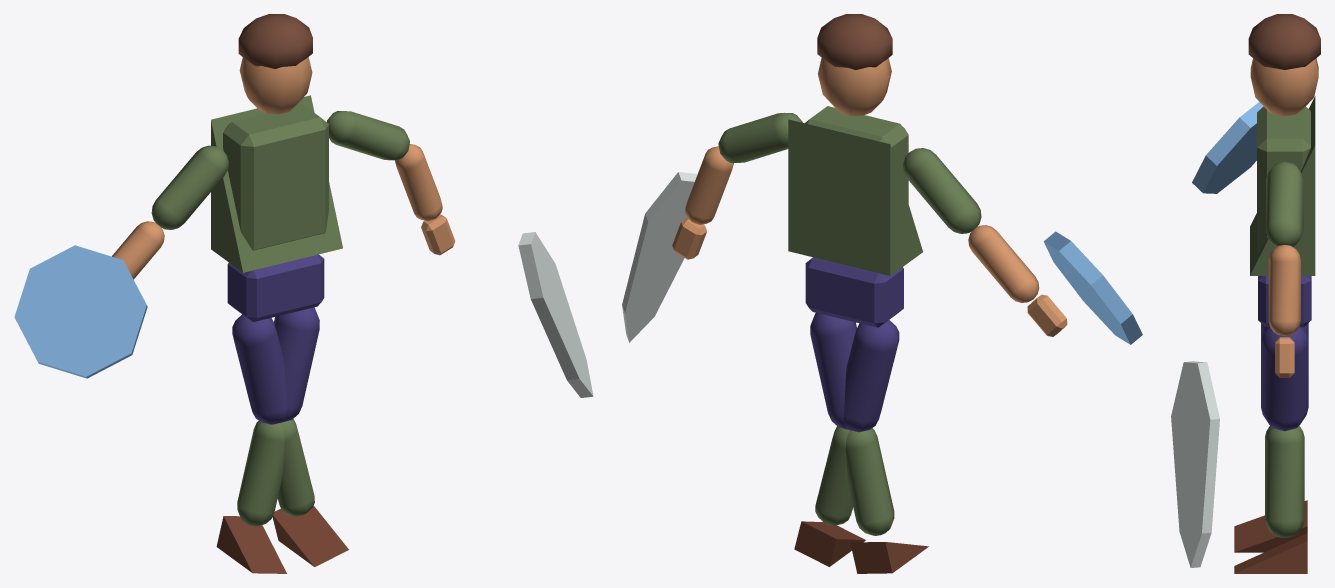
Rendered from adventurer.rustic.glb.
3 renders of one model, left to right at view 1: azimuth 30°, elevation 25°; view 2: azimuth 150°, elevation 25°; view 3: azimuth 270°, elevation 25°, orthographic.
Visible parts, largest first — view 1: accessory.off-hand, torso, tunic, accessory.main-hand, pelvis, thigh.left, shin.right, upper-arm.left, hair, thigh.right, head, upper-arm.right (+6 smaller); view 2: tunic, accessory.main-hand, pelvis, thigh.left, shin.right, accessory.off-hand, upper-arm.left, hair, thigh.right, head, forearm.left, upper-arm.right (+7 smaller); view 3: accessory.main-hand, shin.left, thigh.right, torso, hair, accessory.off-hand, upper-arm.right, head, tunic, forearm.right, foot.left, foot.right (+2 smaller).
Boxes of the visible parts, x1,y1,x2,y2 form: accessory.off-hand: (14, 245, 147, 378); torso: (223, 104, 328, 250); tunic: (211, 95, 342, 272); accessory.main-hand: (518, 232, 593, 397); pelvis: (227, 254, 324, 322); thigh.left: (232, 314, 286, 424); shin.right: (237, 421, 284, 526); upper-arm.left: (151, 145, 228, 229); hair: (238, 14, 312, 68); thigh.right: (274, 307, 319, 422); head: (239, 57, 312, 114); upper-arm.right: (327, 111, 409, 160); tunic: (788, 119, 922, 275); accessory.main-hand: (622, 172, 697, 342); pelvis: (805, 257, 903, 327); thigh.left: (844, 320, 899, 432); shin.right: (846, 428, 894, 535); accessory.off-hand: (1043, 231, 1142, 344); upper-arm.left: (903, 148, 981, 233); hair: (817, 14, 892, 69); thigh.right: (810, 312, 856, 429); head: (818, 58, 891, 115); forearm.left: (968, 225, 1039, 302); upper-arm.right: (718, 112, 802, 162); accessory.main-hand: (1171, 361, 1219, 567); shin.left: (1265, 426, 1304, 537); thigh.right: (1261, 327, 1308, 431); torso: (1257, 106, 1310, 252); hair: (1248, 14, 1320, 69); accessory.off-hand: (1192, 102, 1263, 193); upper-arm.right: (1266, 161, 1303, 247); head: (1250, 58, 1318, 116); tunic: (1250, 96, 1315, 275); forearm.right: (1268, 245, 1300, 335); foot.left: (1234, 533, 1307, 573); foot.right: (1234, 500, 1307, 552).
Size of the model in its own units: 3.18 by 3.01 by 0.7564.
